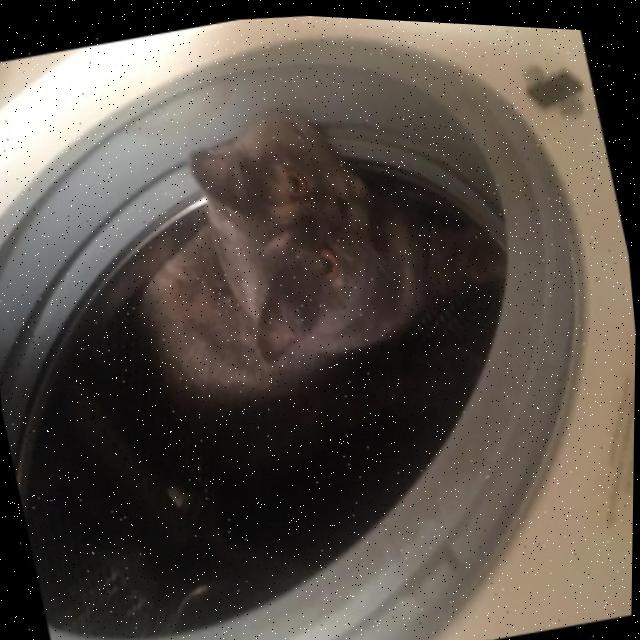Cats: (80, 35, 561, 522)
